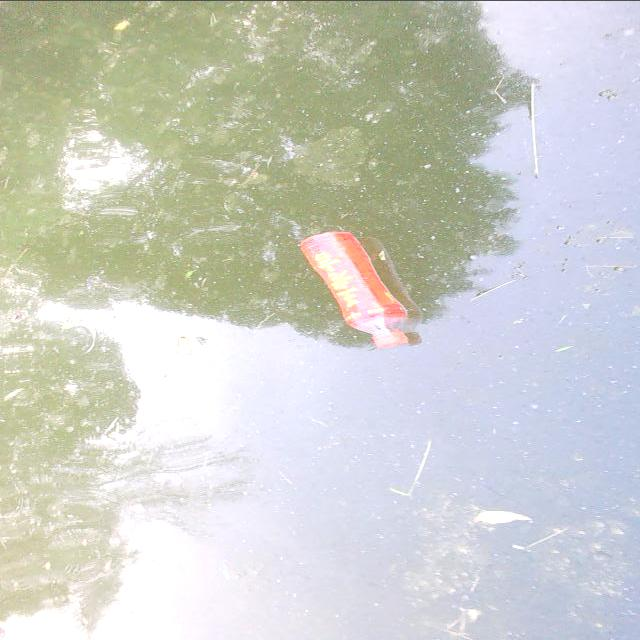bottle: (292, 222, 416, 362)
